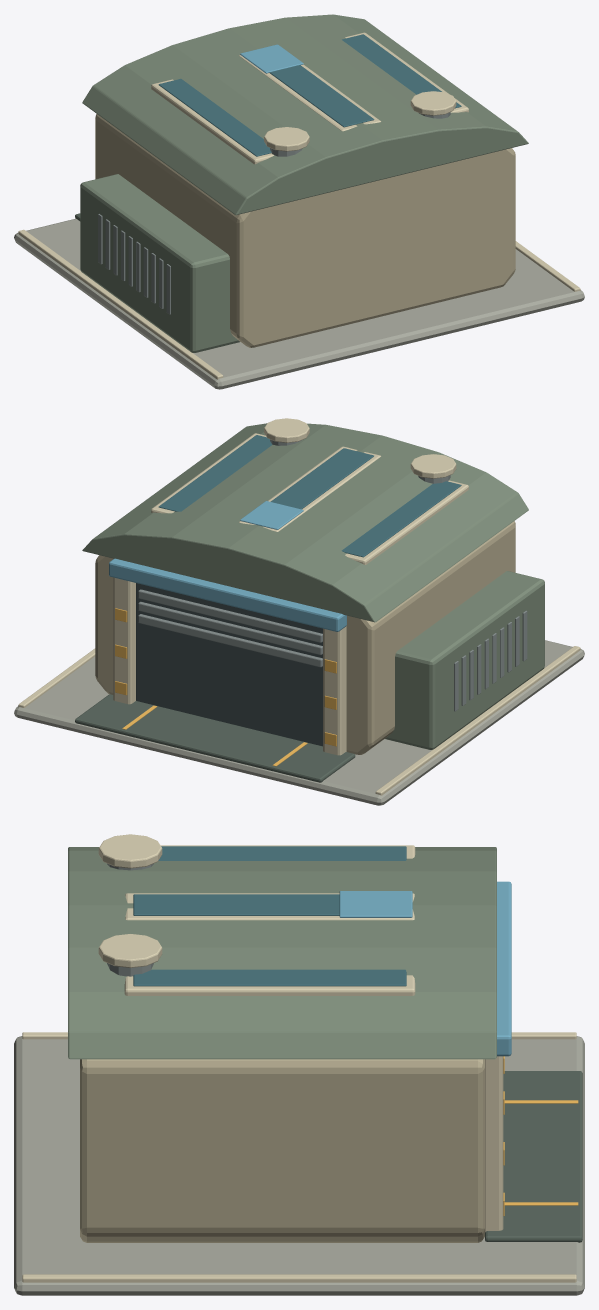
Rendered from factory.glb.
3 renders of one model, top to bottom at view 1: azimuth 30°, elevation 25°; view 2: azimuth 150°, elevation 25°; view 3: azimuth 270°, elevation 25°, orthographic. The views are drawn at different scales.
Parts seen in each view (by area): view 1: body; view 2: body; view 3: body.
Boxes of the visible parts, bbox=[...] form: body: bbox=[14, 14, 584, 389]; body: bbox=[14, 418, 584, 805]; body: bbox=[14, 834, 584, 1295].
Size of the model in its own units: 10.1 by 5.18 by 9.7.
